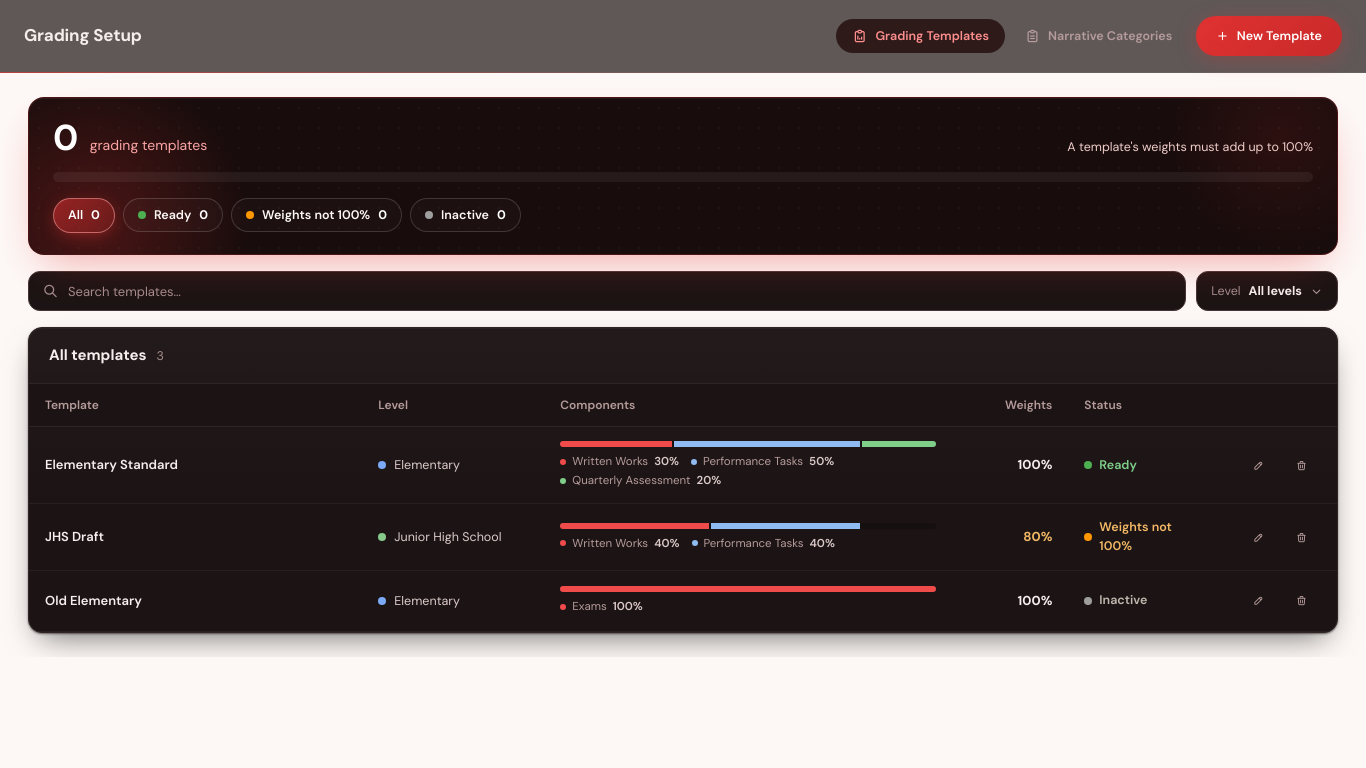
Test case: Grading setup — dark mode › renders the templates and opens one to edit
Click the button "JHS Draft" at (74, 537), box [29,504,1337,570]
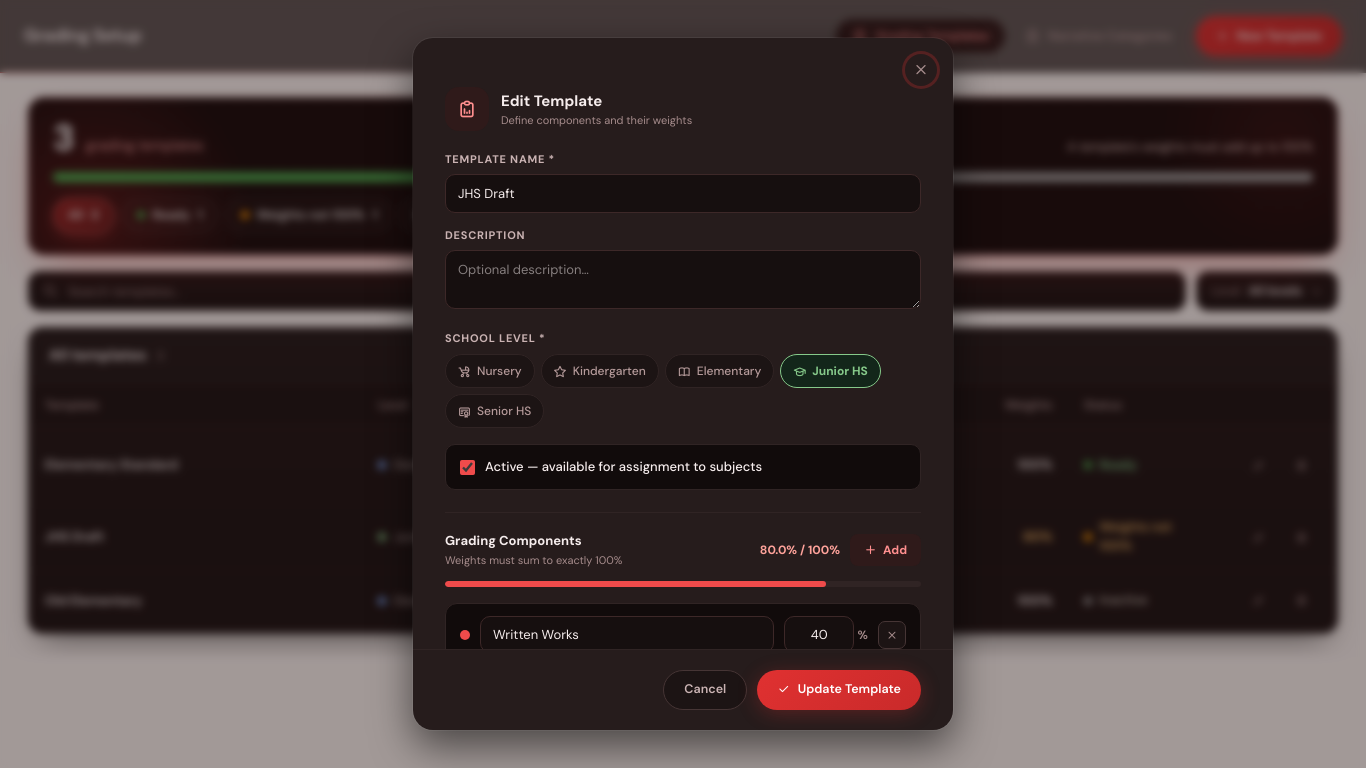
Expected: the button "Update Template" is shown, [757,670,921,710]
Expected: the text "80.0% / 100%" is shown, [760,541,840,559]
